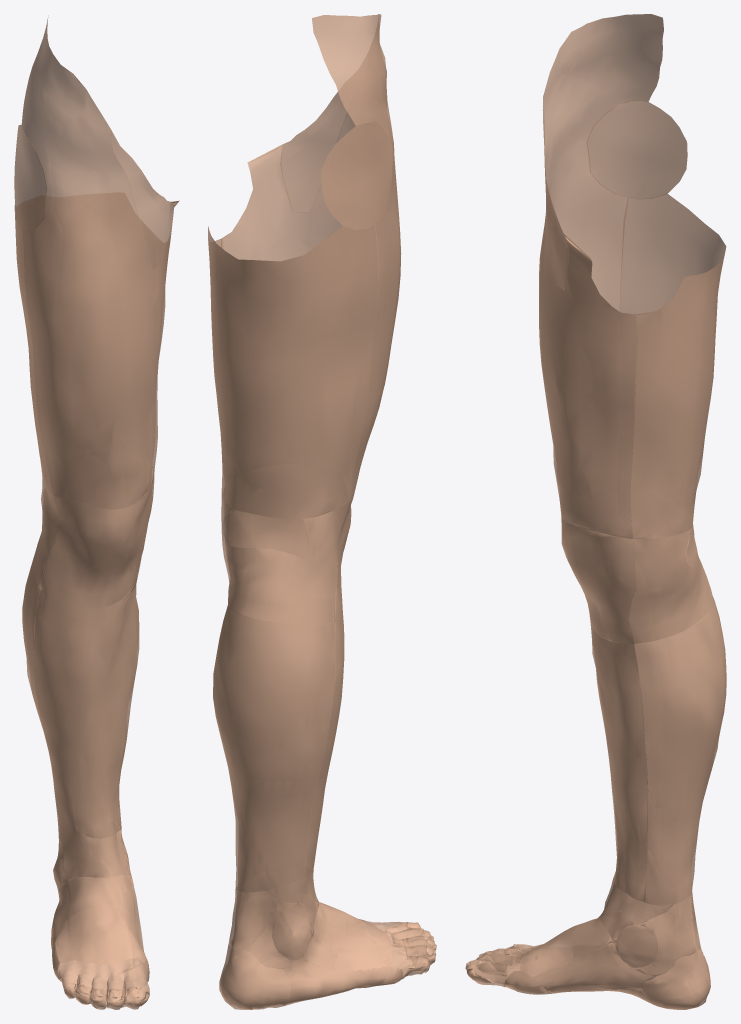
The model's file is regions.lower_limb_right.glb.
3 renders of one model, left to right at view 1: azimuth 30°, elevation 25°; view 2: azimuth 150°, elevation 25°; view 3: azimuth 270°, elevation 25°, orthographic. The views are drawn at different scales.
Visible parts, largest first — view 1: right_anterior_region_of_thigh, right_anterior_region_of_leg, right_anterior_region_of_knee, right_metatarsal_region, right_dorsal_surfaces_of_digits_of_foot, right_anterior_region_of_ankle, right_femoral_triangle, right_hip_region, right_dorsum_of_foot, right_posterior_region_of_leg, right_posterior_region_of_thigh, right_posterior_region_of_knee (+7 smaller); view 2: right_posterior_region_of_thigh, right_posterior_region_of_leg, right_anterior_region_of_thigh, right_posterior_region_of_knee, right_hip_region, right_femoral_triangle, right_heel_region, right_lateral_retromalleolar_region, right_lateral_border_of_foot, right_popliteal_fossa, right_anterior_region_of_leg, right_metatarsal_region (+6 smaller); view 3: right_anterior_region_of_thigh, right_posterior_region_of_thigh, right_posterior_region_of_leg, right_anterior_region_of_leg, right_hip_region, right_posterior_region_of_knee, right_anterior_region_of_knee, right_medial_border_of_foot, right_heel_region, right_medial_retromalleolar_region, right_anterior_region_of_ankle, right_metatarsal_region (+6 smaller).
Boxes of the visible parts, x1,y1,x2,y2 form: right_anterior_region_of_thigh: (21,15,179,509); right_anterior_region_of_leg: (32,579,139,838); right_anterior_region_of_knee: (39,475,154,607); right_metatarsal_region: (54,904,146,964); right_dorsal_surfaces_of_digits_of_foot: (57,957,149,1002); right_anterior_region_of_ankle: (57,817,131,885); right_femoral_triangle: (110,129,171,269); right_hip_region: (14,125,46,232); right_dorsum_of_foot: (58,875,133,925); right_posterior_region_of_leg: (22,561,138,825); right_posterior_region_of_thigh: (14,205,52,493); right_posterior_region_of_knee: (31,480,78,587); right_posterior_region_of_thigh: (208,223,378,518); right_posterior_region_of_leg: (213,605,335,892); right_anterior_region_of_thigh: (221,14,401,501); right_posterior_region_of_knee: (221,497,348,625); right_hip_region: (321,121,392,229); right_femoral_triangle: (280,91,347,212); right_heel_region: (219,941,291,1009); right_lateral_retromalleolar_region: (232,891,295,968); right_lateral_border_of_foot: (284,955,403,1002); right_popliteal_fossa: (226,509,309,558); right_anterior_region_of_leg: (304,613,344,877); right_metatarsal_region: (333,907,392,970); right_anterior_region_of_thigh: (539,14,663,538); right_posterior_region_of_thigh: (619,193,726,538); right_posterior_region_of_leg: (634,600,726,905); right_anterior_region_of_leg: (590,625,648,901); right_hip_region: (587,100,687,199); right_posterior_region_of_knee: (628,528,714,643); right_anterior_region_of_knee: (561,516,636,643); right_medial_border_of_foot: (533,943,656,993); right_heel_region: (641,948,710,1009); right_medial_retromalleolar_region: (632,895,696,975); right_anterior_region_of_ankle: (599,878,673,943); right_metatarsal_region: (519,923,582,977).
Size of the model in its own units: 0.1687 by 1.04 by 0.2544.
